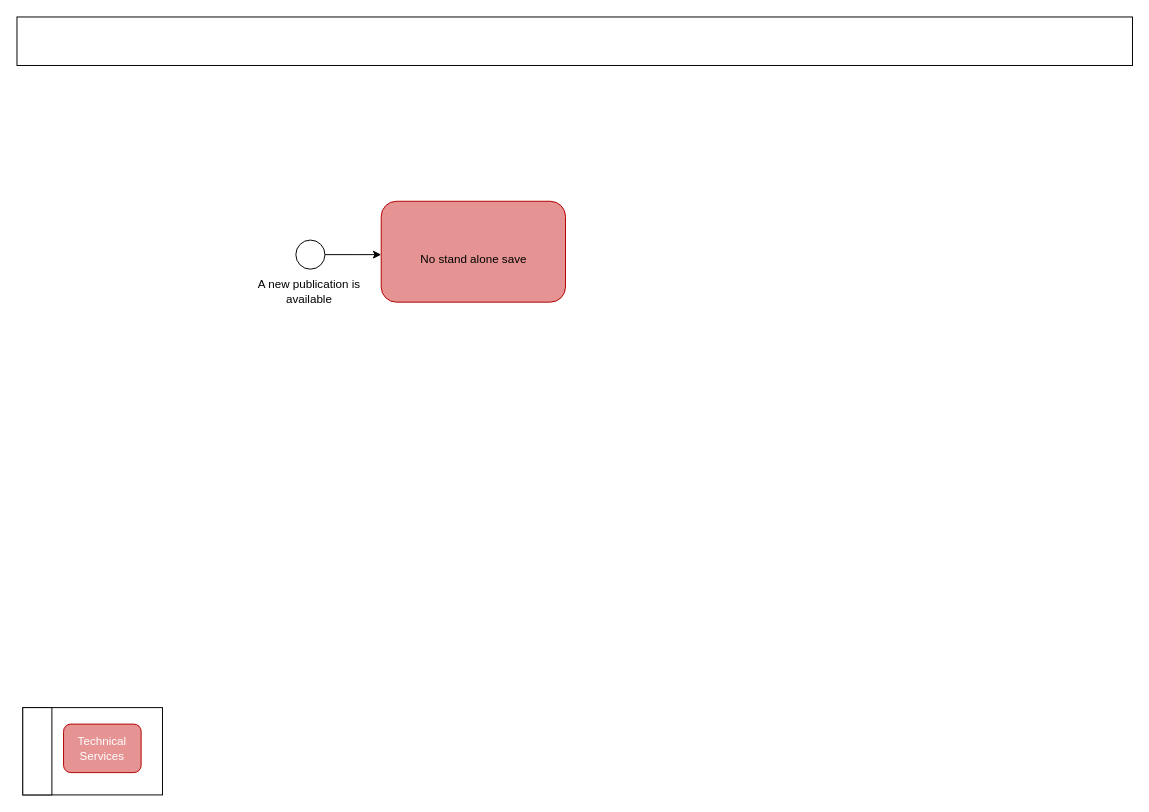
This 1149x812 diagram has some shape labels left out. The shapes that lost their labels are listed below. From the top down, each one's box as (x1, y1, x2, y2) in pixels, then its label:
(16, 16, 1132, 65): 02.05 Technical Library - ACI
(22, 707, 52, 795): LEGEND
